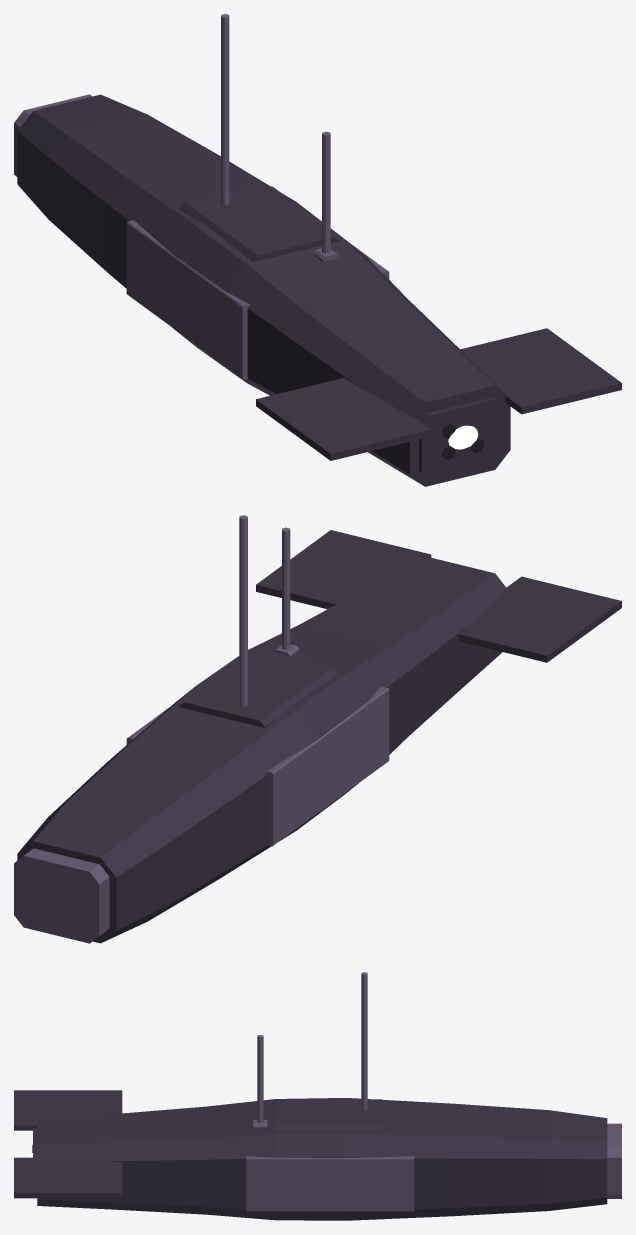
The picture shows the model from 3 angles, top to bottom: view 1: azimuth 30°, elevation 25°; view 2: azimuth 150°, elevation 25°; view 3: azimuth 270°, elevation 25°; orthographic projection. The views are drawn at different scales.
Visible parts, largest first — view 1: RIMWARD_HULL; view 2: RIMWARD_HULL; view 3: RIMWARD_HULL.
Part boxes in pixels (box(x1,y1,x2,y2)): RIMWARD_HULL: box(14, 14, 621, 486); RIMWARD_HULL: box(14, 515, 621, 943); RIMWARD_HULL: box(14, 972, 621, 1220).
Size of the model in its own units: 6.96 by 7.14 by 17.37.
